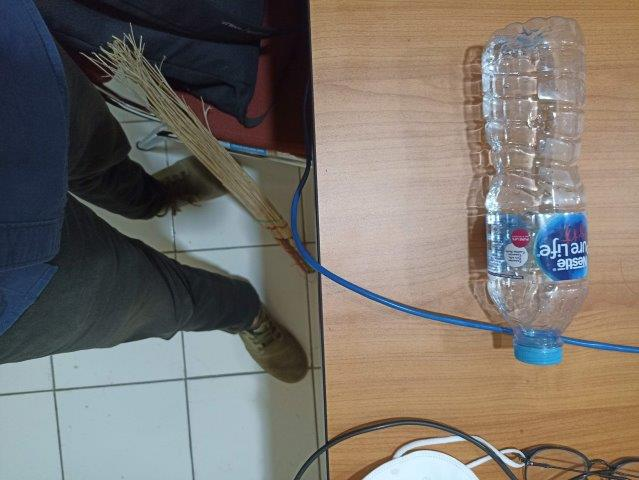botolplastik: (482, 17, 592, 364)
